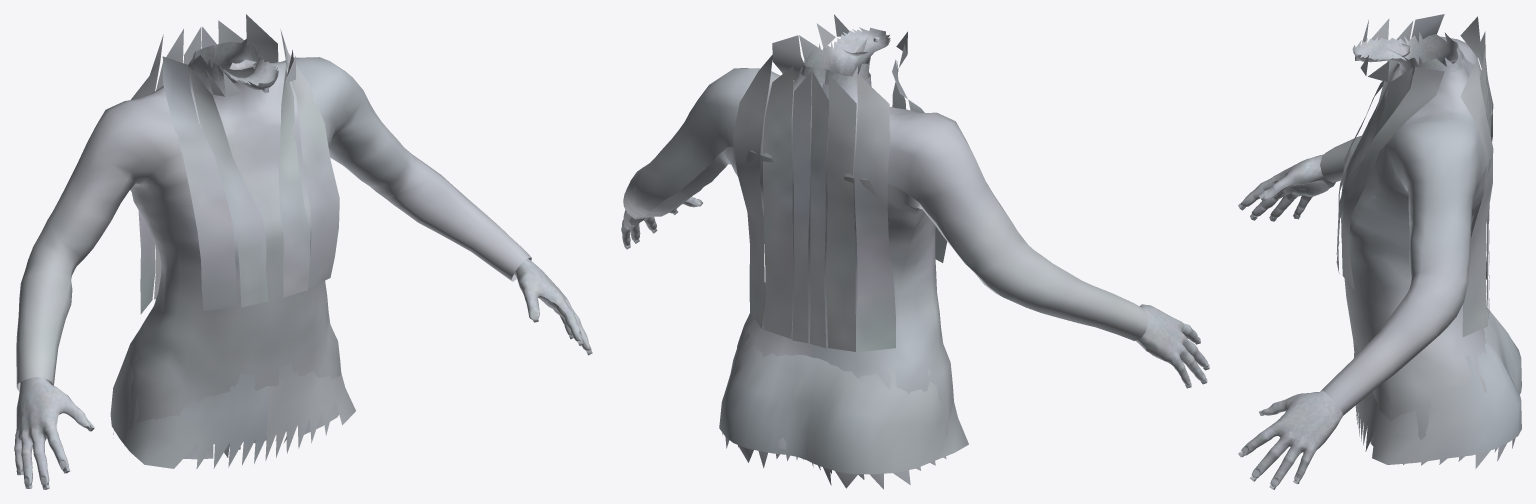
Rendered from cloth-outerwear.glb.
3 renders of one model, left to right at view 1: azimuth 30°, elevation 25°; view 2: azimuth 150°, elevation 25°; view 3: azimuth 270°, elevation 25°, orthographic. The views are drawn at different scales.
Parts seen in each view (by area): view 1: Cloth_outerwear; view 2: Cloth_outerwear; view 3: Cloth_outerwear.
Part boxes in pixels (x1=…): Cloth_outerwear: x1=14, y1=14, x2=592, y2=489; Cloth_outerwear: x1=621, y1=14, x2=1209, y2=489; Cloth_outerwear: x1=1238, y1=14, x2=1521, y2=489.
Size of the model in its own units: 1.01 by 0.6753 by 0.4425.
1 material, 1 textured.
